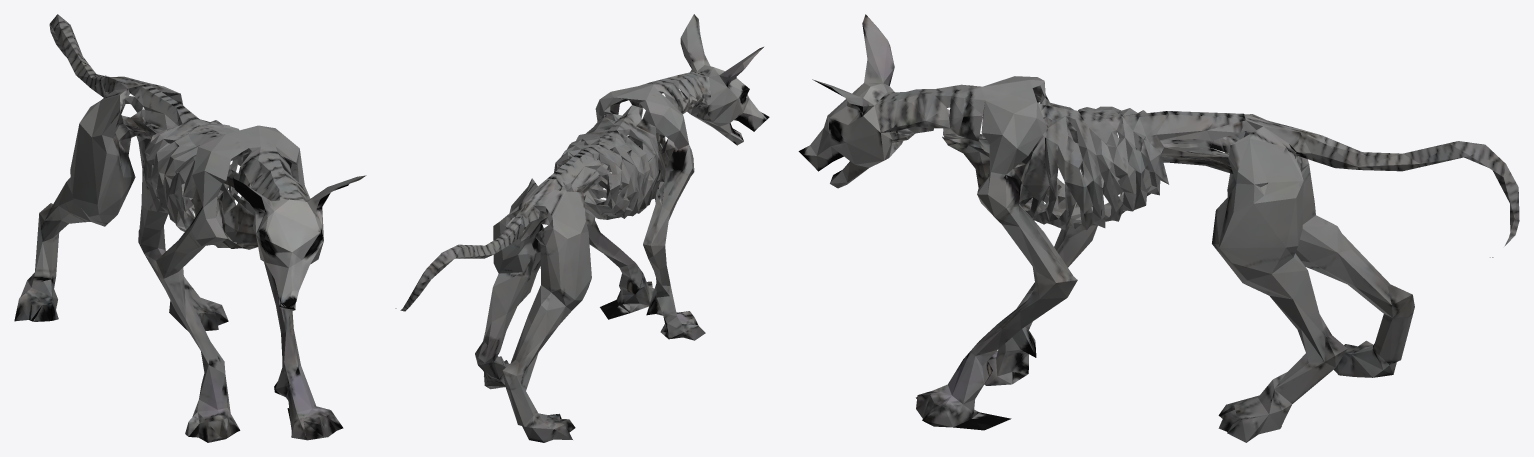
File: bone_hound.gltf
3 views of the same model, side by side, from view 1: azimuth 30°, elevation 25°; view 2: azimuth 150°, elevation 25°; view 3: azimuth 270°, elevation 25° (orthographic). The views are drawn at different scales.
Visible parts, largest first — view 1: bone_hound; view 2: bone_hound; view 3: bone_hound.
Boxes of the visible parts, box(x1,y1,x2,y2) form: bone_hound: box(14, 14, 366, 442); bone_hound: box(395, 14, 769, 442); bone_hound: box(798, 14, 1519, 442).
Size of the model in its own units: 0.289 by 0.5217 by 1.
Materials: 1 (1 with a texture image).
